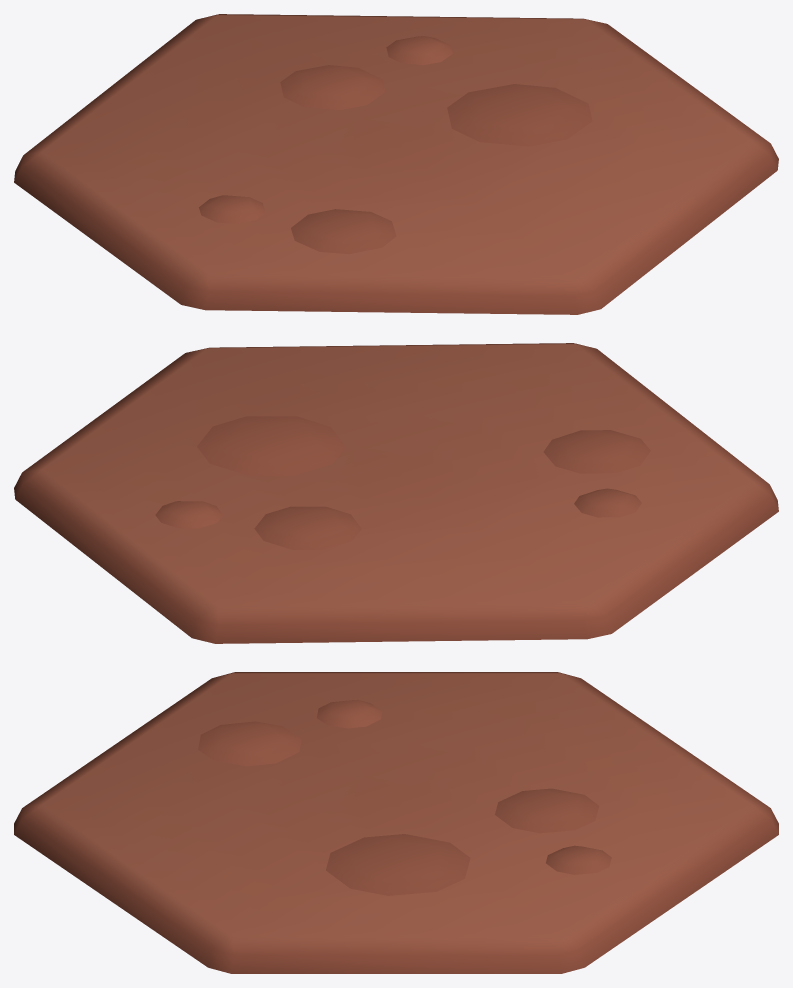
Rendered from dirt.glb.
3 renders of one model, top to bottom at view 1: azimuth 30°, elevation 25°; view 2: azimuth 150°, elevation 25°; view 3: azimuth 270°, elevation 25°, orthographic.
Parts seen in each view (by area): view 1: building_dirt; view 2: building_dirt; view 3: building_dirt.
Boxes of the visible parts, left/top/right/bottom form: building_dirt: left=14, top=14, right=778, bottom=314; building_dirt: left=14, top=343, right=778, bottom=643; building_dirt: left=14, top=672, right=778, bottom=973.
Size of the model in its own units: 1.79 by 0.0866 by 2.01.
1 material, 1 textured.
